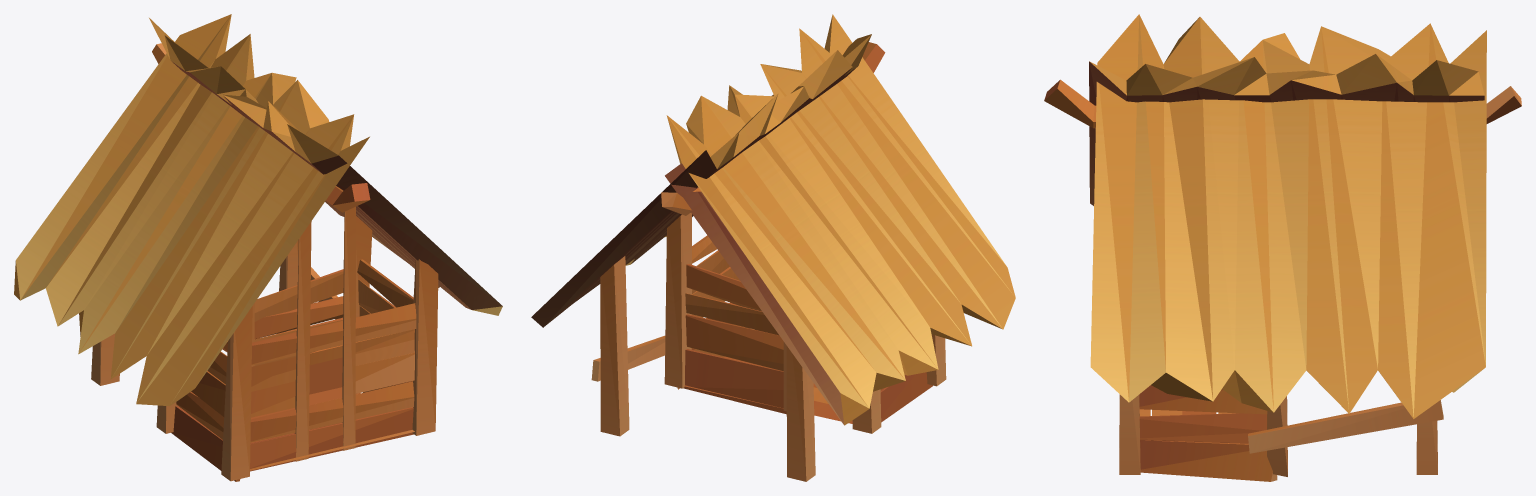
The model's file is GL-Manmade-04-LOD3.fbx.
The picture shows the model from 3 angles, left to right: view 1: azimuth 30°, elevation 25°; view 2: azimuth 150°, elevation 25°; view 3: azimuth 270°, elevation 25°; orthographic projection. The views are drawn at different scales.
Visible parts, largest first — view 1: GL_Manmade_04; view 2: GL_Manmade_04; view 3: GL_Manmade_04.
Boxes of the visible parts, x1,y1,x2,y2 form: GL_Manmade_04: [14, 14, 502, 481]; GL_Manmade_04: [531, 14, 1015, 481]; GL_Manmade_04: [1044, 14, 1521, 481].
Bounding box in the file's own units: 1.47 × 1.36 × 1.49.
